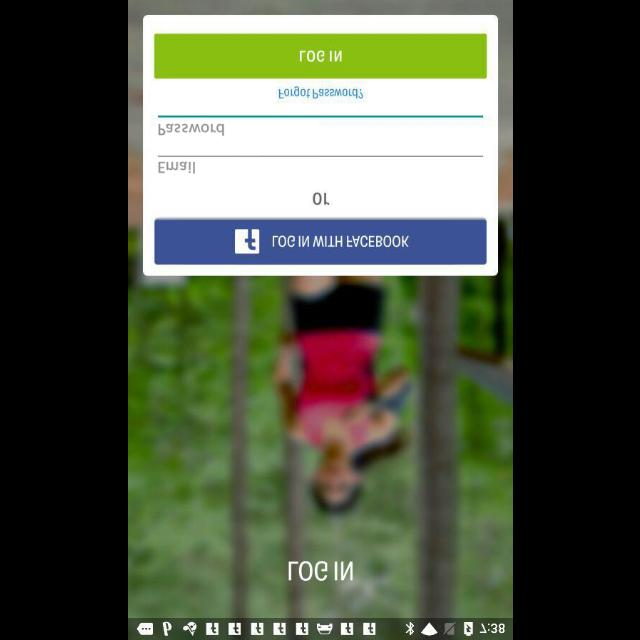backgroundimage: (128, 0, 512, 616)
input: (157, 115, 483, 137), (157, 156, 483, 174)
panel: (142, 14, 498, 276)
text: (287, 559, 353, 581), (278, 86, 362, 100), (158, 124, 224, 136), (158, 162, 195, 174), (312, 192, 328, 205)
textbutton: (154, 220, 486, 264), (154, 34, 486, 78)
uppertaskbar: (128, 617, 512, 639)
